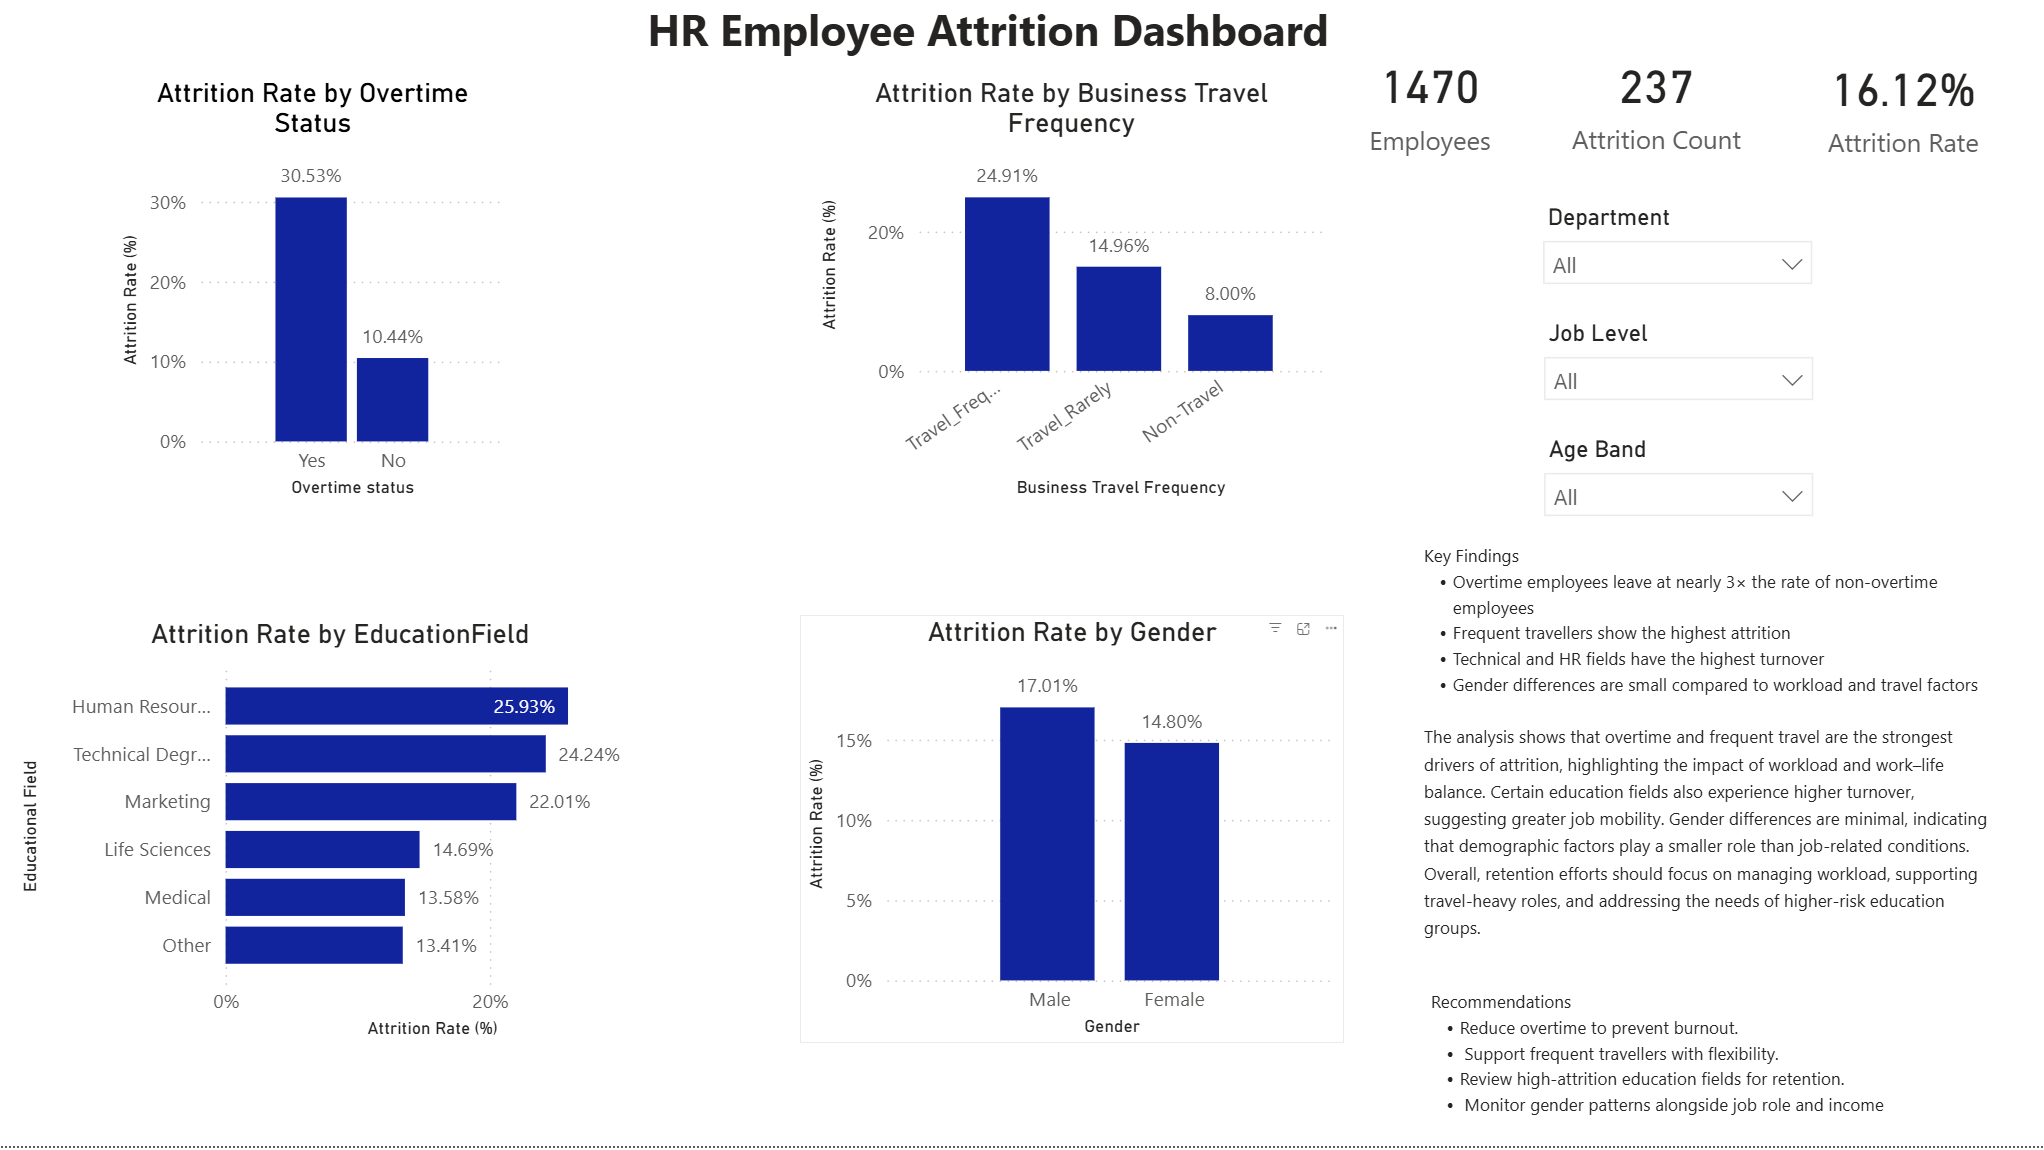

Layout of this report page (visuals, bound fields, positions):
{"tool":"powerbi","page":{"name":"Page 1","canvas":[1280,720],"ordinal":0},"visuals":[{"type":"clusteredColumnChart","title":"Attrition Rate by Business Travel Frequency","fields":{"Category":["WA_Fn-UseC_-HR-Employee-Attrition_capped.BusinessTravel"],"Y":["WA_Fn-UseC_-HR-Employee-Attrition_capped.Attrition Rate"]},"box":[512.4,52.4,322.6,267],"z":0},{"type":"card","fields":{"Values":["WA_Fn-UseC_-HR-Employee-Attrition_capped.Employees"]},"box":[844.2,24.2,106,87],"z":1000},{"type":"card","fields":{"Values":["WA_Fn-UseC_-HR-Employee-Attrition_capped.Attrition Count"]},"box":[974.4,17,127.6,101.4],"z":2000},{"type":"card","fields":{"Values":["WA_Fn-UseC_-HR-Employee-Attrition_capped.Attrition Rate"]},"box":[1130.8,19,123.7,101.4],"z":3000},{"type":"clusteredColumnChart","title":"Attrition Rate by Overtime Status","fields":{"Category":["WA_Fn-UseC_-HR-Employee-Attrition_capped.OverTime"],"Y":["WA_Fn-UseC_-HR-Employee-Attrition_capped.Attrition Rate"]},"box":[75.9,52.4,248,267],"z":4000},{"type":"barChart","fields":{"Category":["WA_Fn-UseC_-HR-Employee-Attrition_capped.EducationField"],"Y":["WA_Fn-UseC_-HR-Employee-Attrition_capped.Attrition Rate"]},"box":[13.7,390,407,267],"z":5000},{"type":"clusteredColumnChart","title":"Attrition Rate by Gender","fields":{"Category":["WA_Fn-UseC_-HR-Employee-Attrition_capped.Gender"],"Y":["WA_Fn-UseC_-HR-Employee-Attrition_capped.Attrition Rate"]},"box":[503.9,388.7,339.6,267],"z":6000},{"type":"slicer","fields":{"Values":["WA_Fn-UseC_-HR-Employee-Attrition_capped.Department"]},"box":[957.8,127.3,188.3,83.9],"z":7000},{"type":"slicer","fields":{"Values":["WA_Fn-UseC_-HR-Employee-Attrition_capped.Job Level Label"]},"box":[958,199.6,187.8,72.6],"z":8000},{"type":"slicer","fields":{"Values":["WA_Fn-UseC_-HR-Employee-Attrition_capped.Age Band"]},"box":[958,272.2,187.8,74.6],"z":9000},{"type":"textbox","box":[458.7,319.3,396.6,66.1],"z":10000},{"type":"textbox","box":[888.5,449.8,366.2,161.6],"z":11000},{"type":"textbox","box":[388.7,0,465.4,52.4],"z":12000},{"type":"textbox","box":[888.5,336.9,358.1,112.9],"z":13000},{"type":"textbox","box":[324,52,150,267],"z":13001},{"type":"textbox","box":[892.8,615.2,300.1,104.8],"z":13002}]}

Visuals, with their boxes in screenshot pixels (x1, y1, x2, y2), scaled from the page's 1280x720 canvas onto the 2044x1150 screenshot:
"Attrition Rate by Business Travel Frequency" clusteredColumnChart: (818, 84, 1333, 510)
card - WA_Fn-UseC_-HR-Employee-Attrition_capped.Employees: (1348, 39, 1517, 178)
card - WA_Fn-UseC_-HR-Employee-Attrition_capped.Attrition Count: (1556, 27, 1760, 189)
card - WA_Fn-UseC_-HR-Employee-Attrition_capped.Attrition Rate: (1806, 30, 2003, 192)
"Attrition Rate by Overtime Status" clusteredColumnChart: (121, 84, 517, 510)
barChart - WA_Fn-UseC_-HR-Employee-Attrition_capped.EducationField x WA_Fn-UseC_-HR-Employee-Attrition_capped.Attrition Rate: (22, 623, 672, 1049)
"Attrition Rate by Gender" clusteredColumnChart: (805, 621, 1347, 1047)
slicer - WA_Fn-UseC_-HR-Employee-Attrition_capped.Department: (1529, 203, 1830, 337)
slicer - WA_Fn-UseC_-HR-Employee-Attrition_capped.Job Level Label: (1530, 319, 1830, 435)
slicer - WA_Fn-UseC_-HR-Employee-Attrition_capped.Age Band: (1530, 435, 1830, 554)
textbox: (732, 510, 1366, 616)
textbox: (1419, 718, 2004, 977)
textbox: (621, 0, 1364, 84)
textbox: (1419, 538, 1991, 718)
textbox: (517, 83, 757, 510)
textbox: (1426, 983, 1905, 1149)
